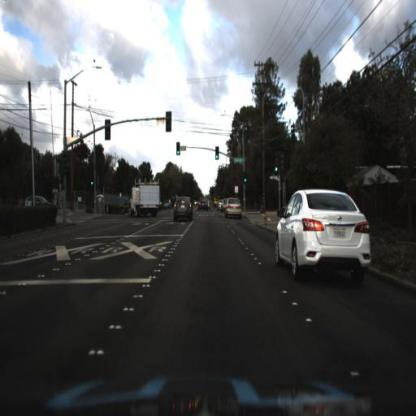car: (270, 179, 373, 293), (24, 189, 54, 214), (223, 193, 246, 215), (173, 198, 194, 222), (197, 196, 211, 212)
trafficLight-Green: (213, 146, 222, 166), (87, 177, 95, 193), (176, 144, 184, 160), (241, 171, 249, 185), (274, 158, 280, 176), (215, 147, 221, 163), (273, 166, 281, 177), (242, 175, 248, 187)
truck: (130, 179, 164, 221), (127, 180, 163, 218)
